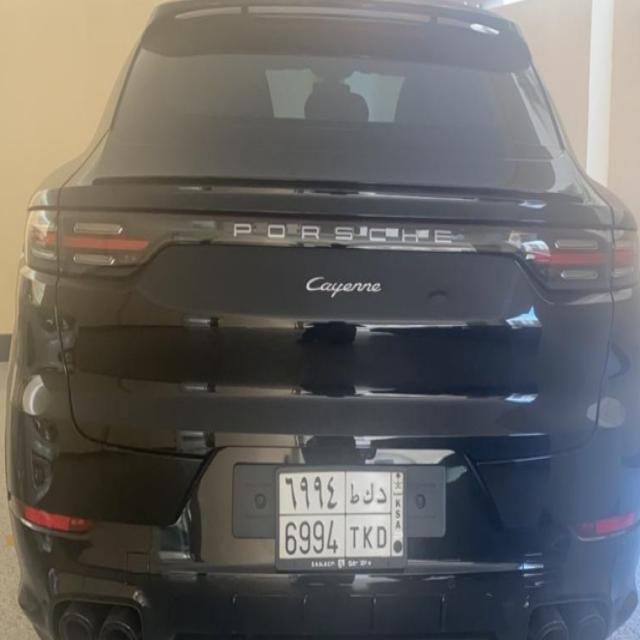license_plate: (277, 469, 408, 563)
